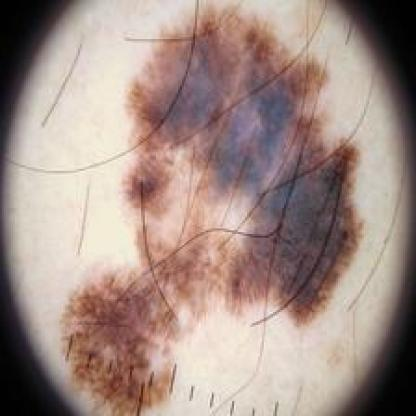Skin_Cancer-Malignant: (57, 0, 370, 416)
